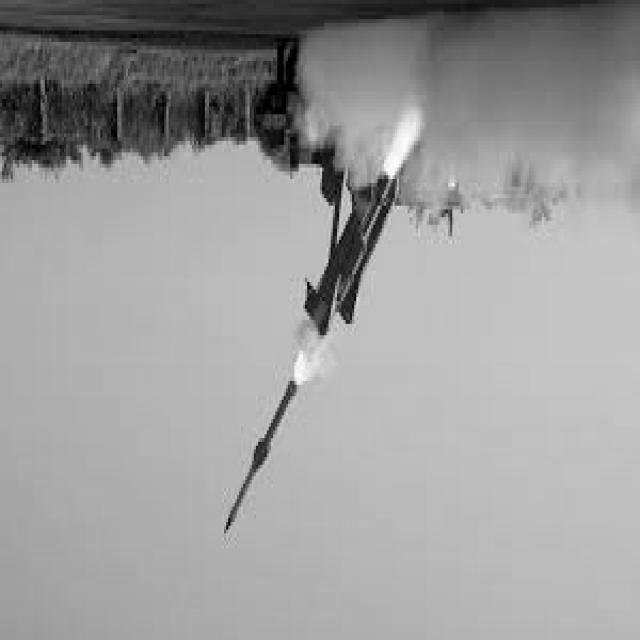Missile: (221, 373, 309, 549)
